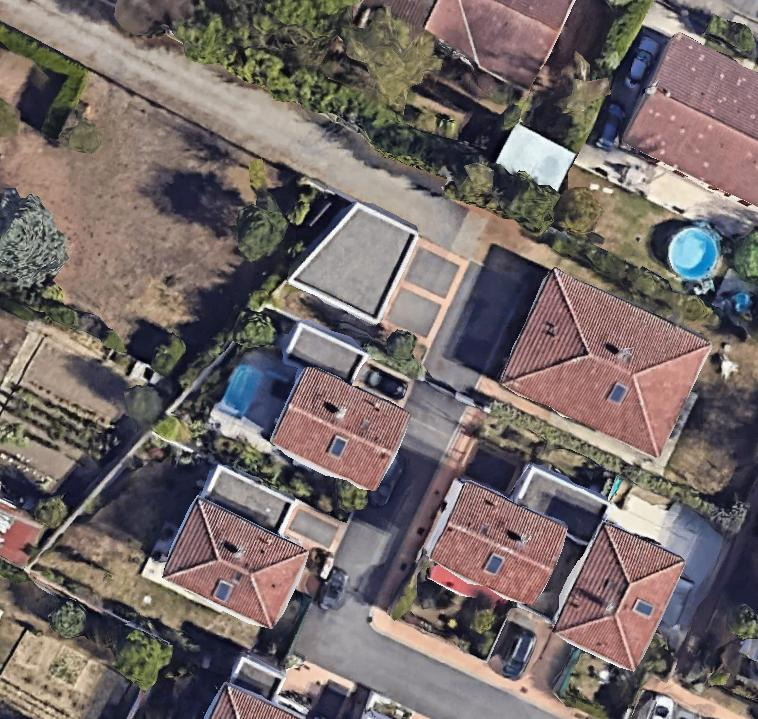maison: (496, 267, 712, 458), (615, 28, 758, 214), (417, 474, 573, 614), (548, 519, 687, 674), (157, 497, 312, 635), (265, 362, 415, 499), (364, 0, 575, 88), (204, 682, 303, 718)
